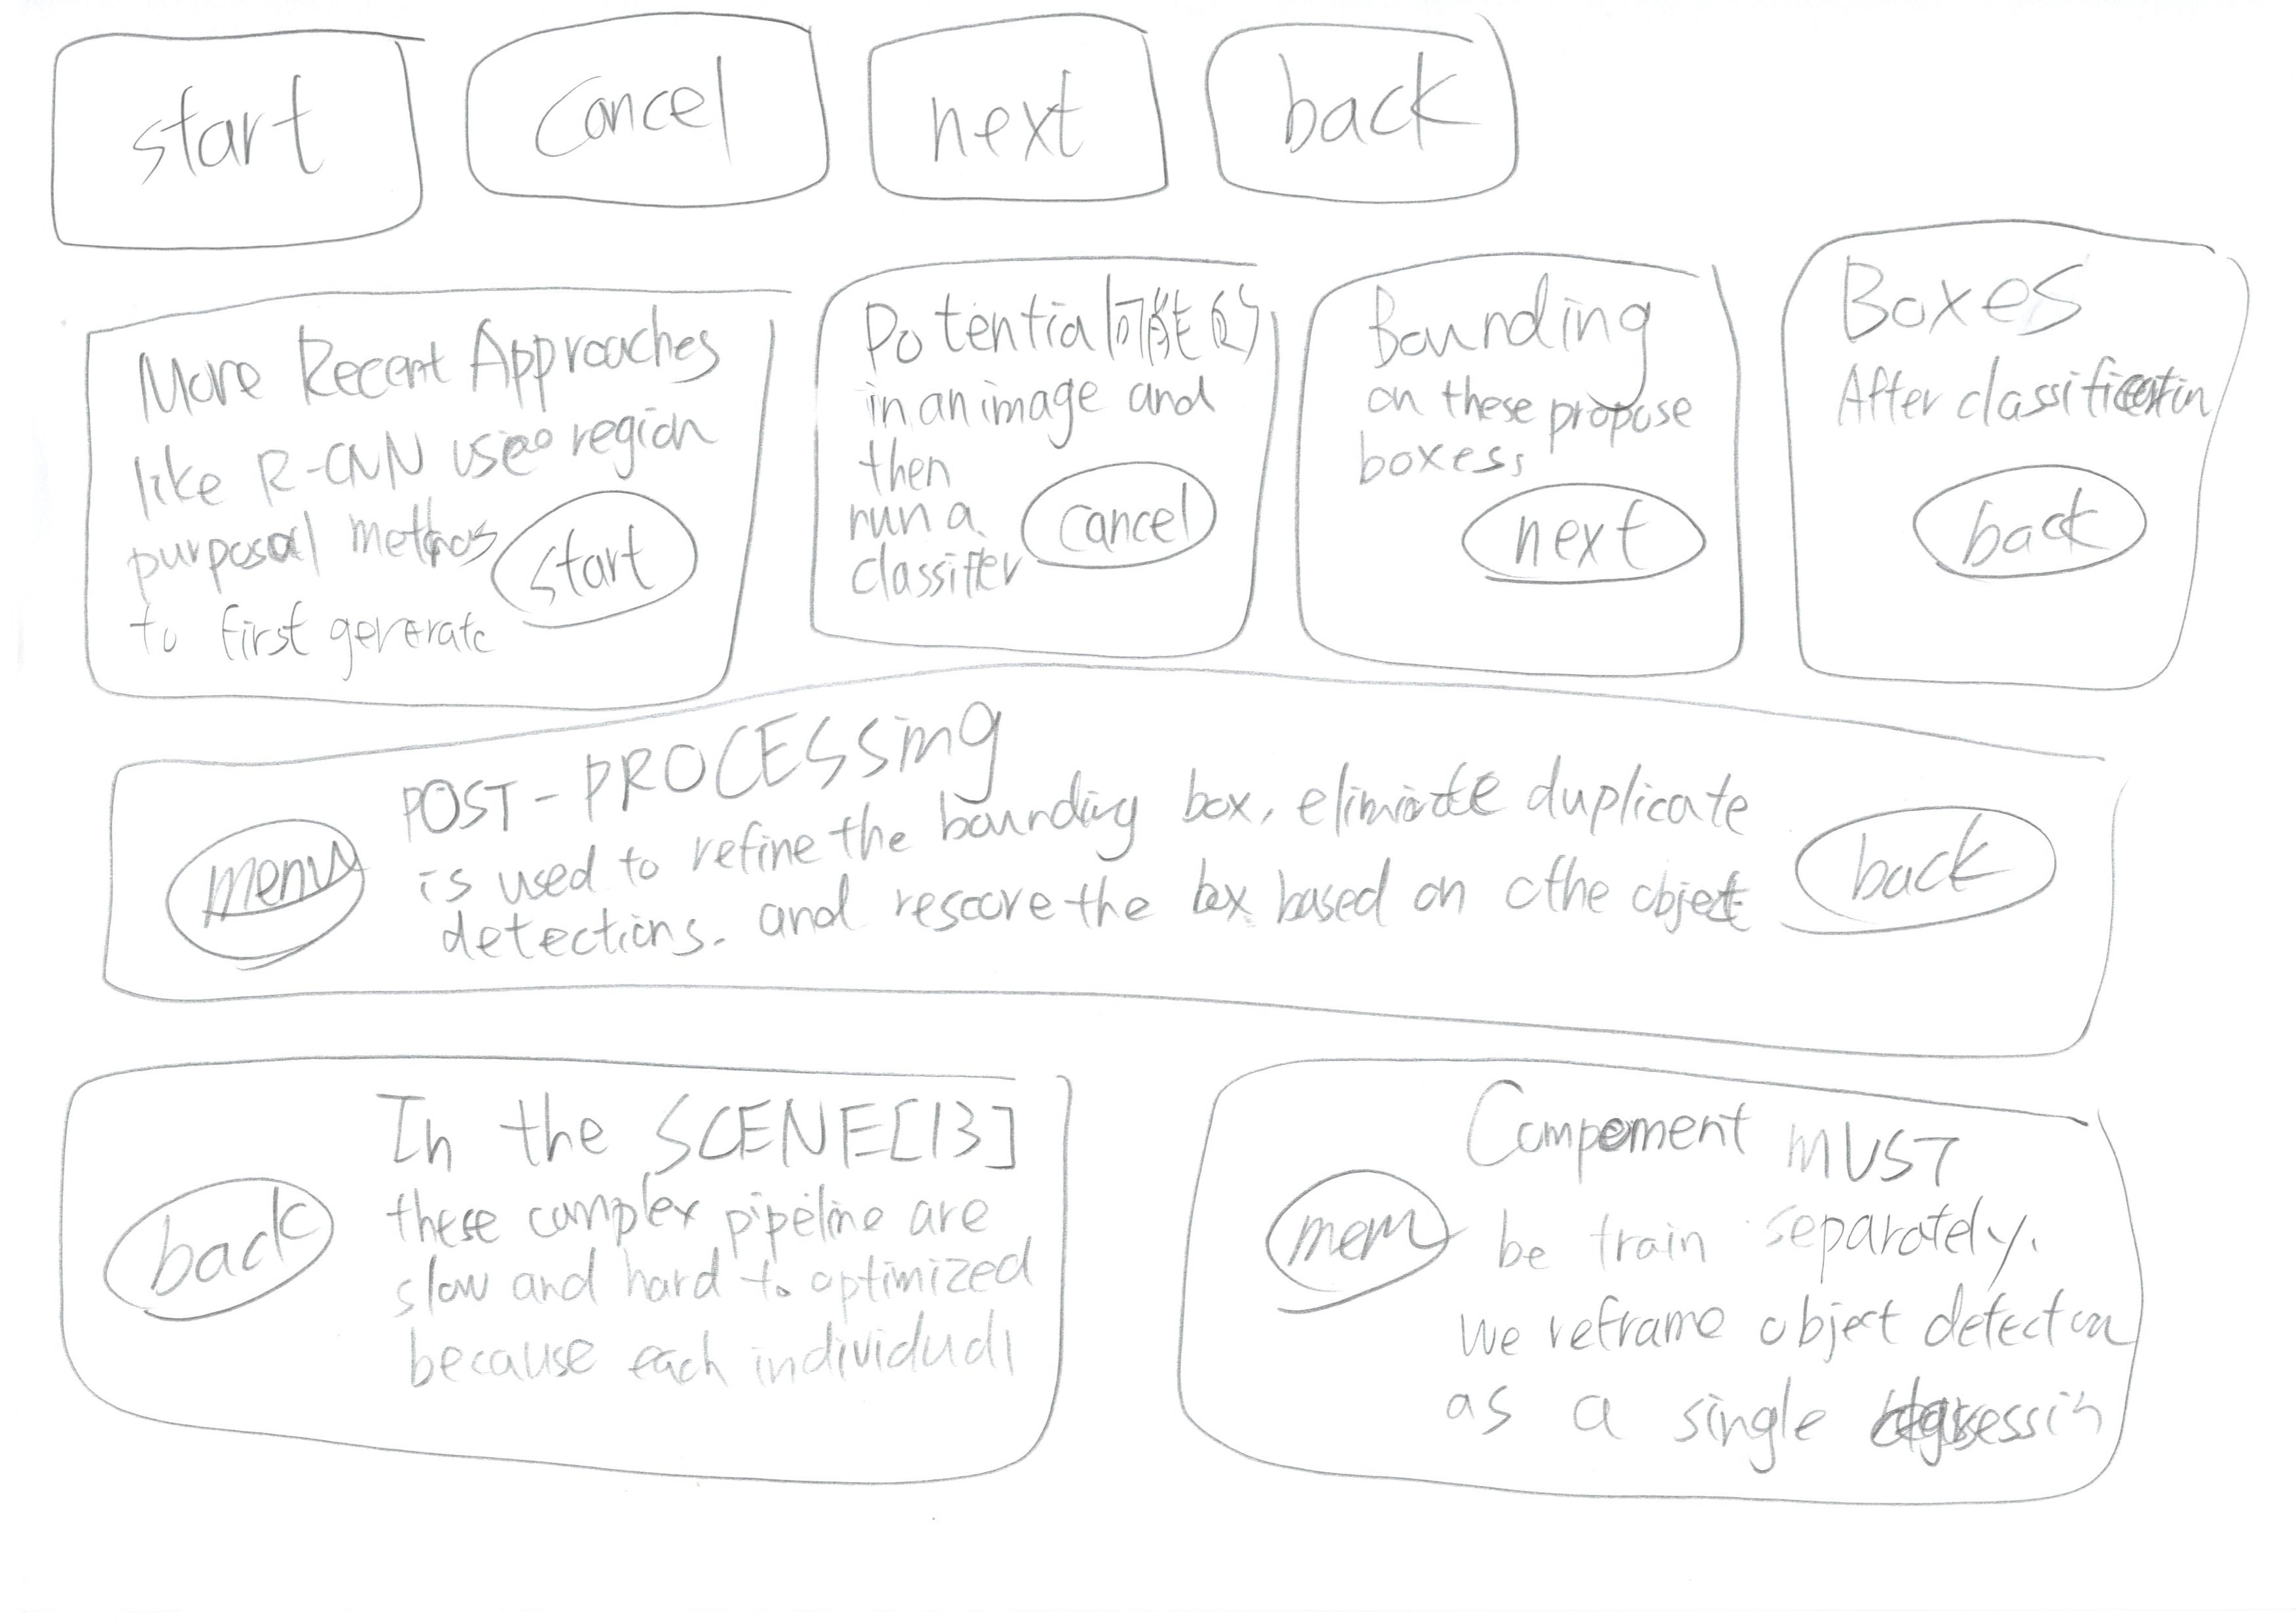back: (84, 1130, 366, 1352), (1779, 772, 2067, 956)
cancel: (443, 4, 856, 244), (1007, 446, 1238, 587)
double: (26, 1021, 1118, 1536), (1132, 1037, 2224, 1552)
menu: (1239, 1144, 1470, 1350), (153, 807, 387, 972)
next: (844, 4, 1195, 225), (1431, 448, 1719, 613), (1902, 434, 2180, 596)
quadruple: (54, 246, 800, 733), (1758, 197, 2273, 691), (1252, 204, 1767, 696), (772, 211, 1285, 703)
row: (35, 1005, 2296, 1594), (35, 216, 2296, 714), (35, 673, 2296, 1074), (25, 0, 2285, 225)
single: (62, 682, 2222, 1084)
small-title: (1473, 1070, 2053, 1225), (353, 1070, 1041, 1179), (387, 715, 1021, 805), (148, 334, 726, 422), (1823, 234, 2178, 374), (858, 276, 1241, 373), (1370, 264, 1644, 369)
start: (16, 2, 443, 272), (476, 476, 721, 629)
text: (413, 777, 1765, 956), (1459, 1199, 2120, 1457), (378, 1176, 1011, 1401), (135, 425, 462, 677), (846, 388, 990, 608), (1362, 394, 1695, 483), (1839, 366, 2203, 427), (876, 376, 1220, 434)
